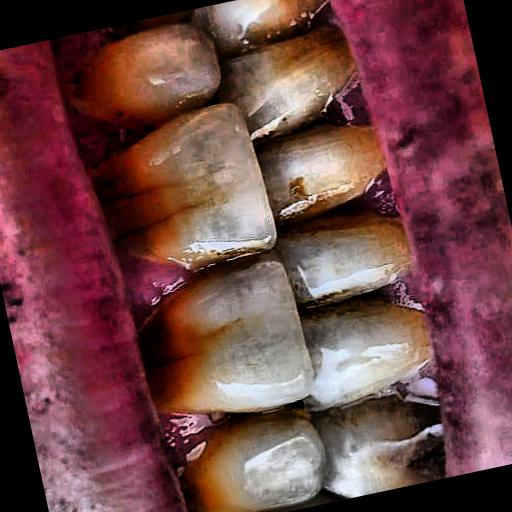Calculus: (216, 0, 468, 503), (65, 12, 278, 512)
